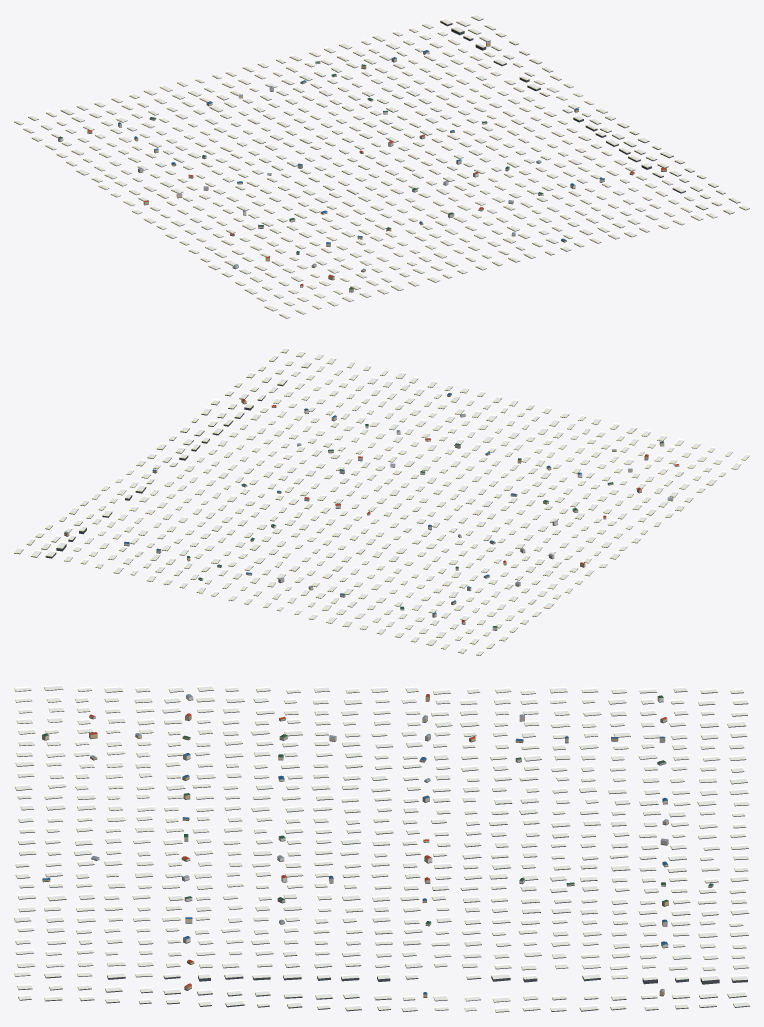
The model's file is buildings_T_W02_N00.glb.
3 renders of one model, top to bottom at view 1: azimuth 30°, elevation 25°; view 2: azimuth 150°, elevation 25°; view 3: azimuth 270°, elevation 25°, orthographic. The views are drawn at different scales.
Parts seen in each view (by area): view 1: T_W02_N00_roofs_agri_greenhouse_arch, T_W02_N00_slope_seating_foundations; view 2: T_W02_N00_roofs_agri_greenhouse_arch, T_W02_N00_slope_seating_foundations; view 3: T_W02_N00_roofs_agri_greenhouse_arch, T_W02_N00_slope_seating_foundations.
Boxes of the visible parts, x1=… form: T_W02_N00_roofs_agri_greenhouse_arch: x1=14, y1=14, x2=749, y2=318; T_W02_N00_slope_seating_foundations: x1=14, y1=16, x2=749, y2=318; T_W02_N00_roofs_agri_greenhouse_arch: x1=14, y1=347, x2=749, y2=655; T_W02_N00_slope_seating_foundations: x1=14, y1=349, x2=749, y2=655; T_W02_N00_roofs_agri_greenhouse_arch: x1=14, y1=684, x2=749, y2=1011; T_W02_N00_slope_seating_foundations: x1=14, y1=686, x2=749, y2=1012.
Size of the model in its own units: 1773 by 61.02 by 1781.
